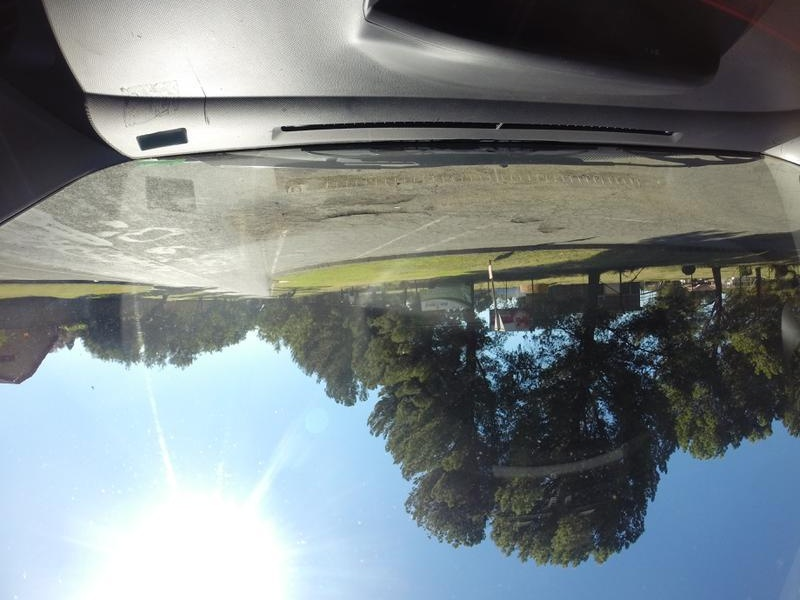pothole: (317, 205, 405, 225), (331, 190, 416, 204), (532, 217, 567, 237), (507, 211, 530, 231), (566, 231, 595, 244)
